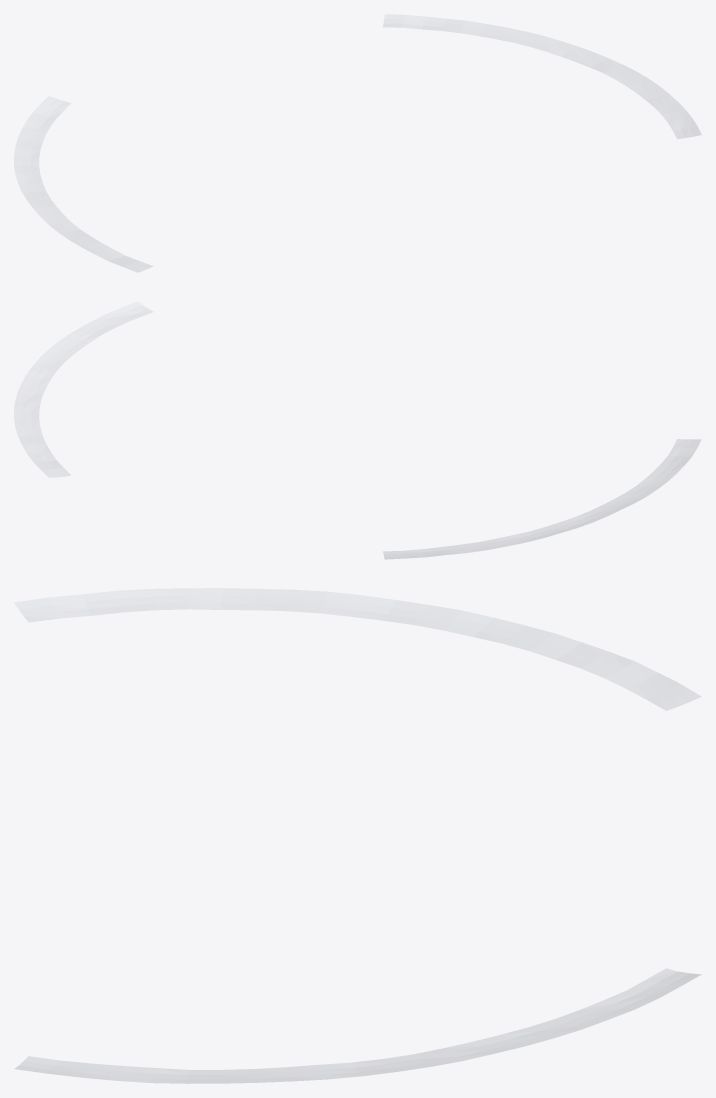
Rendered from Drifts_6.obj.
3 views of the same model, one above another, from view 1: azimuth 30°, elevation 25°; view 2: azimuth 150°, elevation 25°; view 3: azimuth 270°, elevation 25° (orthographic). The views are drawn at different scales.
Parts seen in each view (by area): view 1: Drifts_6; view 2: Drifts_6; view 3: Drifts_6.
Part boxes in pixels (x1,y1,x2,y2): Drifts_6: (14, 14, 701, 272); Drifts_6: (14, 301, 701, 559); Drifts_6: (14, 588, 701, 1083).
Bounding box in the file's own units: 73.89 × 0.3604 × 43.27.
1 material, 1 textured.
